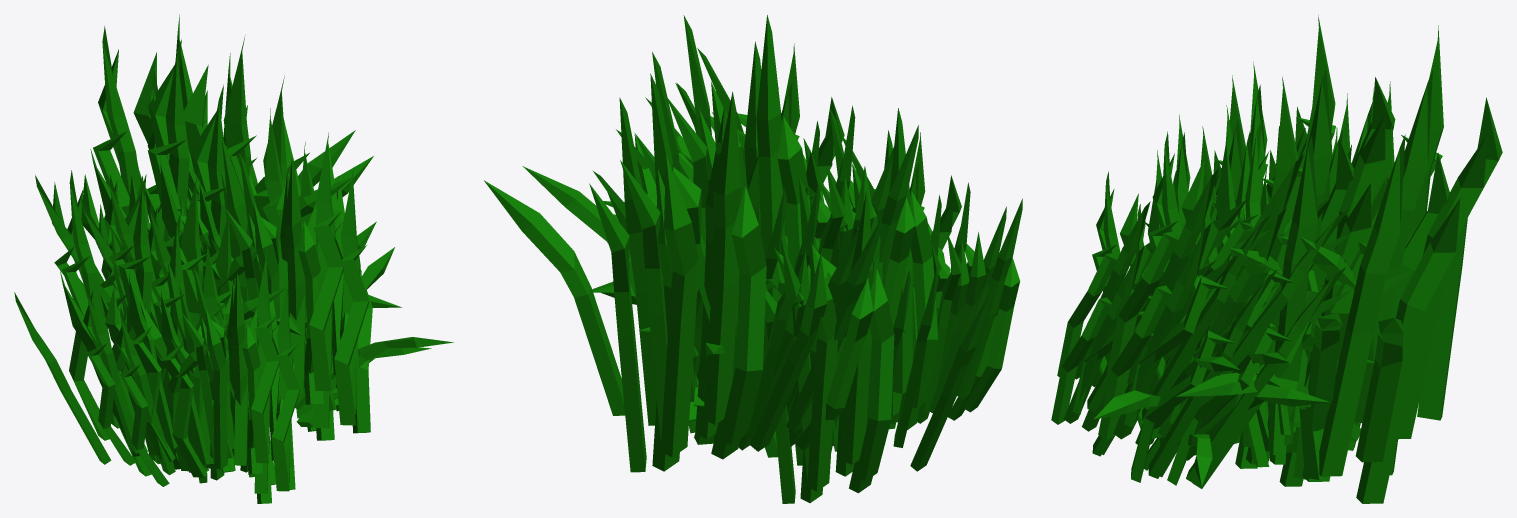
Rendered from arbusto.fbx.
3 views of the same model, side by side, from view 1: azimuth 30°, elevation 25°; view 2: azimuth 150°, elevation 25°; view 3: azimuth 270°, elevation 25° (orthographic). The views are drawn at different scales.
Visible parts, largest first — view 1: Cube.036, Cube.040, Cube.002, Cube.119, Cube.104, Cube.050, Cube.176, Cube.095, Cube.098, Cube.092, Cube.187, Cube.010 (+65 smaller); view 2: Cube.118, Cube.119, Cube.121, Cube.127, Cube.129, Cube.002, Cube.176, Cube.173, Cube.125, Cube.130, Cube.132, Cube.068 (+42 smaller); view 3: Cube.130, Cube.129, Cube.118, Cube.125, Cube.015, Cube.127, Cube.126, Cube.039, Cube.011, Cube.042, Cube.047, Cube.040 (+55 smaller).
Boxes of the visible parts, bbox=[...] form: Cube.036: bbox=[309, 211, 344, 391]; Cube.040: bbox=[334, 245, 369, 425]; Cube.002: bbox=[165, 39, 189, 216]; Cube.119: bbox=[102, 26, 140, 197]; Cube.104: bbox=[205, 307, 227, 469]; Cube.050: bbox=[284, 158, 305, 334]; Cube.176: bbox=[62, 256, 109, 440]; Cube.095: bbox=[251, 315, 279, 463]; Cube.098: bbox=[271, 343, 300, 491]; Cube.092: bbox=[161, 342, 207, 477]; Cube.187: bbox=[14, 292, 111, 464]; Cube.010: bbox=[223, 35, 250, 178]; Cube.118: bbox=[660, 155, 698, 457]; Cube.119: bbox=[703, 91, 740, 424]; Cube.121: bbox=[719, 186, 766, 444]; Cube.127: bbox=[484, 180, 625, 415]; Cube.129: bbox=[589, 183, 646, 472]; Cube.002: bbox=[756, 15, 784, 360]; Cube.176: bbox=[855, 269, 894, 481]; Cube.173: bbox=[807, 243, 837, 491]; Cube.125: bbox=[620, 160, 667, 441]; Cube.130: bbox=[619, 97, 656, 425]; Cube.132: bbox=[749, 253, 827, 451]; Cube.068: bbox=[909, 191, 938, 408]; Cube.130: bbox=[1319, 134, 1405, 476]; Cube.129: bbox=[1356, 198, 1460, 503]; Cube.118: bbox=[1417, 97, 1502, 420]; Cube.125: bbox=[1398, 134, 1487, 439]; Cube.015: bbox=[1267, 136, 1318, 445]; Cube.127: bbox=[1355, 317, 1403, 462]; Cube.126: bbox=[1374, 70, 1432, 354]; Cube.039: bbox=[1113, 222, 1211, 439]; Cube.011: bbox=[1304, 312, 1342, 432]; Cube.042: bbox=[1141, 215, 1270, 421]; Cube.047: bbox=[1148, 269, 1277, 478]; Cube.040: bbox=[1098, 285, 1171, 440].
Size of the model in its own units: 267 by 278 by 239.
